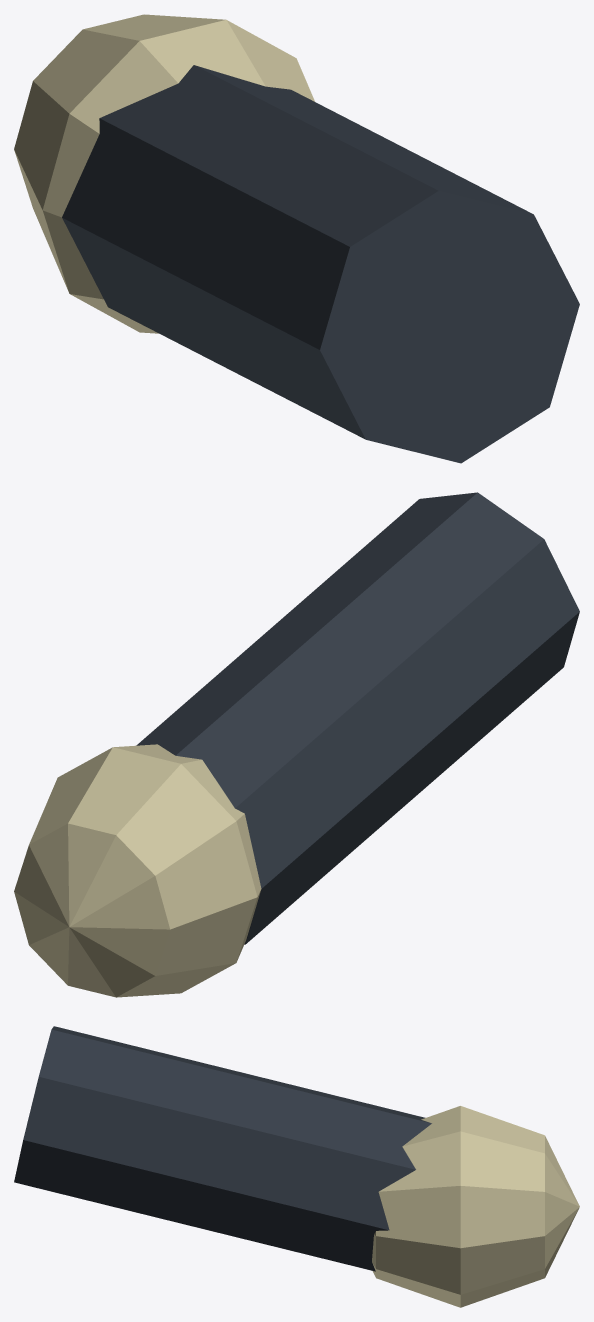
File: Resident1RightArm.obj
The picture shows the model from 3 angles, top to bottom: view 1: azimuth 30°, elevation 25°; view 2: azimuth 150°, elevation 25°; view 3: azimuth 270°, elevation 25°; orthographic projection. The views are drawn at different scales.
Parts seen in each view (by area): view 1: Resident1RightArm; view 2: Resident1RightArm; view 3: Resident1RightArm.
Part boxes in pixels (<box>): Resident1RightArm: <box>14,14,579,463</box>; Resident1RightArm: <box>14,492,579,997</box>; Resident1RightArm: <box>14,1026,579,1307</box>.
Size of the model in its own units: 28.42 by 31.2 by 66.34.
